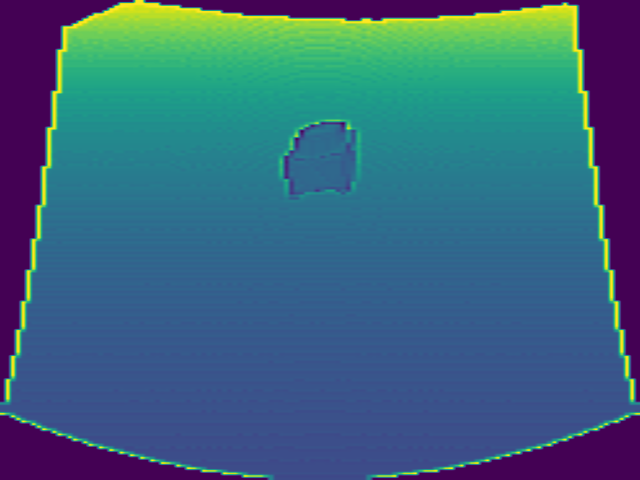car_0027: (275, 118, 362, 201)
